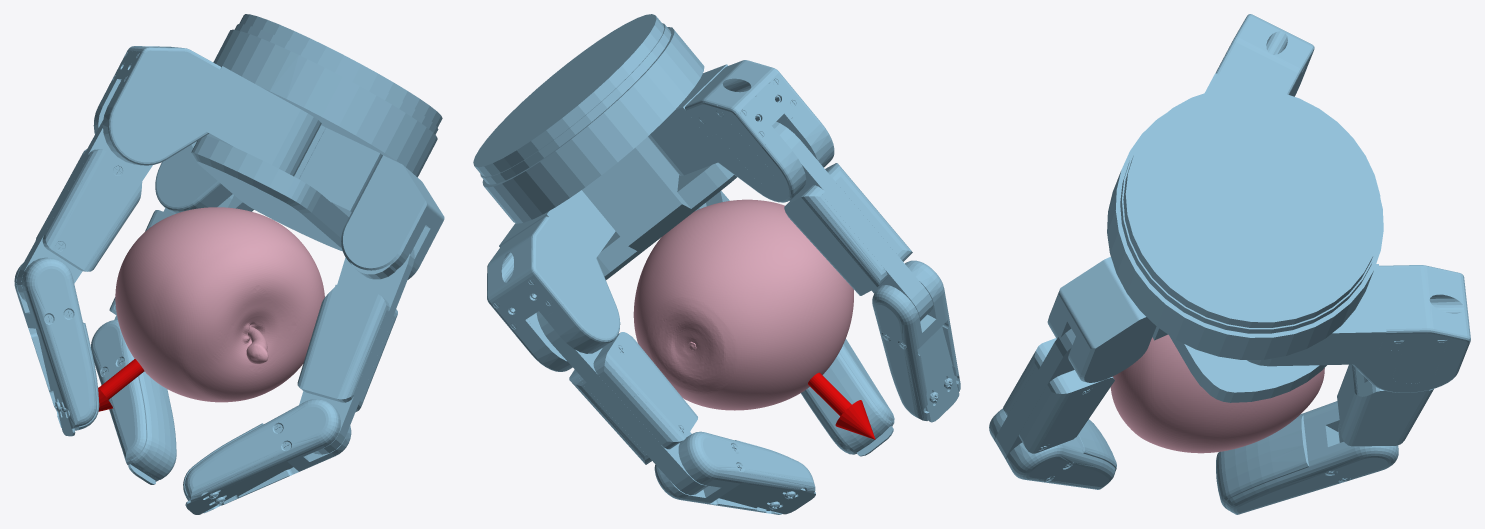
3 views of the same model, side by side, from view 1: azimuth 30°, elevation 25°; view 2: azimuth 150°, elevation 25°; view 3: azimuth 270°, elevation 25° (orthographic). The views are drawn at different scales.
Visible parts, largest first — view 1: world, apple.stl; view 2: world, apple.stl; view 3: world, apple.stl.
Boxes of the visible parts, box(x1,y1,x2,y2) form: world: box(14, 14, 444, 514); apple.stl: box(115, 207, 324, 402); world: box(473, 14, 960, 514); apple.stl: box(633, 199, 853, 410); world: box(989, 14, 1470, 514); apple.stl: box(1110, 334, 1324, 453).
Size of the model in its own units: 0.181 by 0.1797 by 0.1576.
